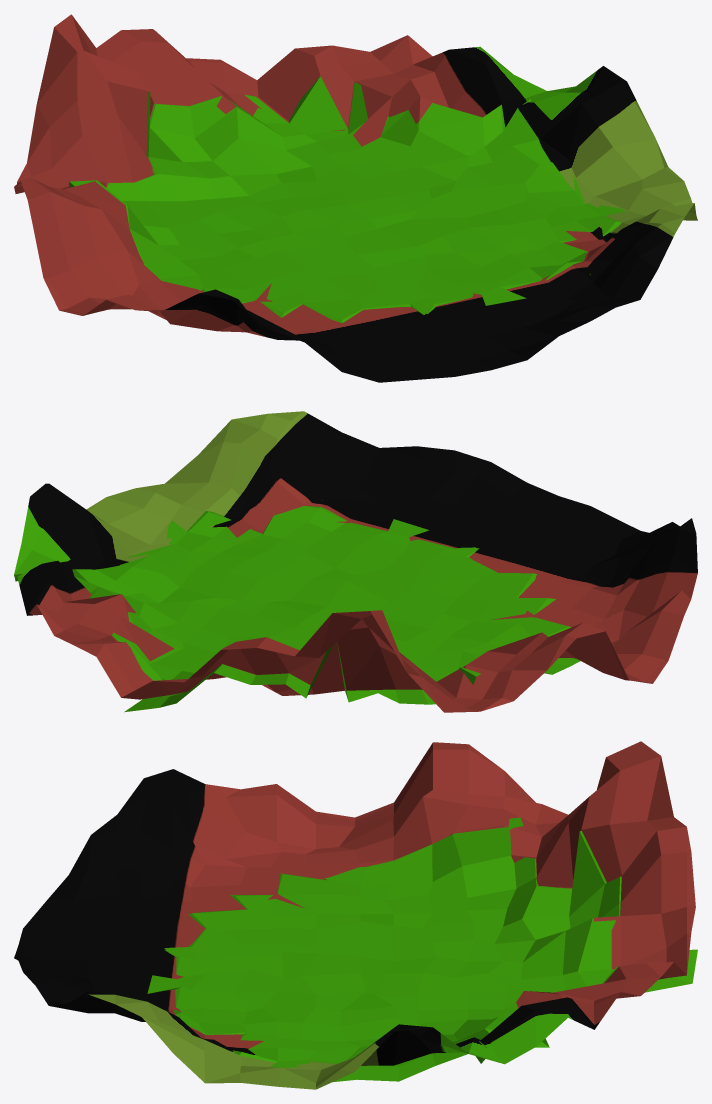
Rendered from Mars-One_map_terraforming_04_2.FBX.
3 views of the same model, one above another, from view 1: azimuth 30°, elevation 25°; view 2: azimuth 150°, elevation 25°; view 3: azimuth 270°, elevation 25° (orthographic).
Visible parts, largest first — view 1: Circle001; view 2: Circle001; view 3: Circle001.
Boxes of the visible parts, box(x1,y1,x2,y2) form: Circle001: box(14, 14, 697, 382); Circle001: box(14, 411, 697, 712); Circle001: box(14, 741, 697, 1089).
Bounding box in the file's own units: 413 × 109 × 416.
1 material, 1 textured.
